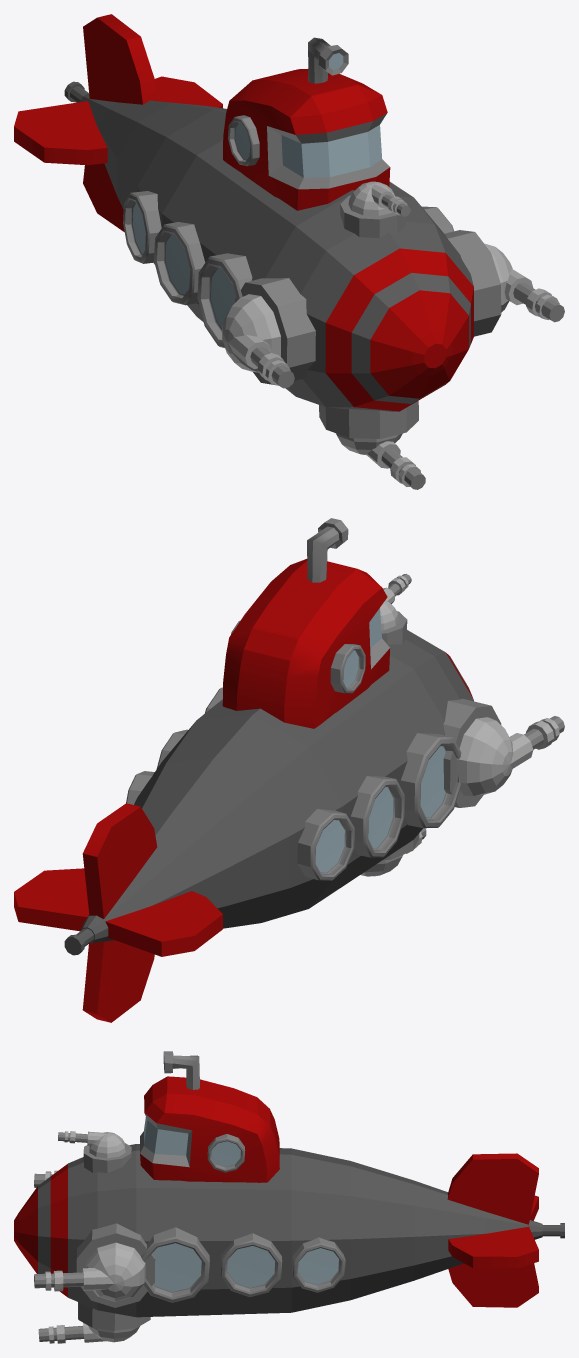
File: boss 5.fbx
The picture shows the model from 3 angles, top to bottom: view 1: azimuth 30°, elevation 25°; view 2: azimuth 150°, elevation 25°; view 3: azimuth 270°, elevation 25°; orthographic projection. The views are drawn at different scales.
Parts seen in each view (by area): view 1: polySurface212; view 2: polySurface212; view 3: polySurface212.
Boxes of the visible parts, left/top/right/bottom form: polySurface212: left=14, top=14, right=564, bottom=489; polySurface212: left=14, top=518, right=564, bottom=1022; polySurface212: left=14, top=1051, right=564, bottom=1343.
Bounding box in the file's own units: 5.05 × 6.31 × 10.85.
